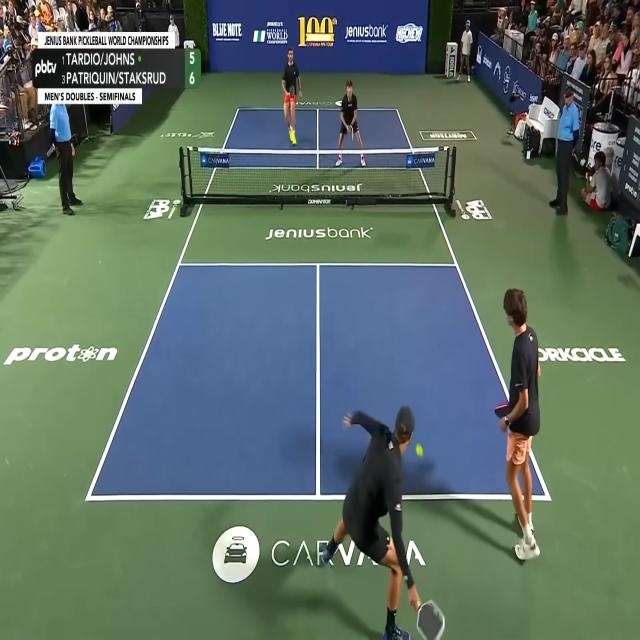ball: (415, 443, 424, 458)
